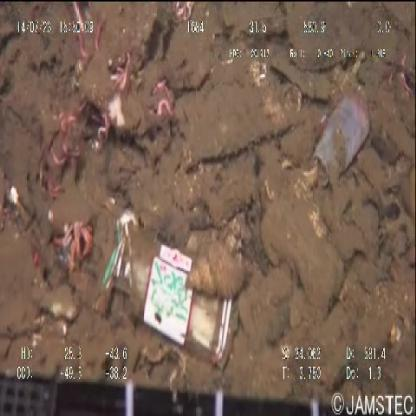Rác: (90, 210, 241, 372), (311, 90, 370, 190)
